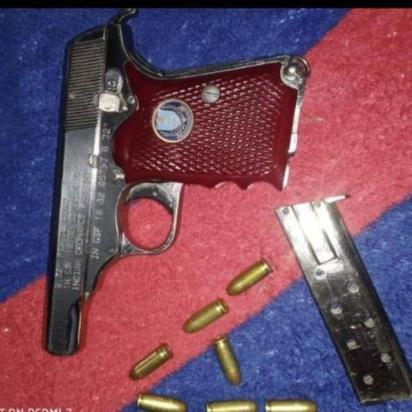Gun: (41, 2, 315, 360)
